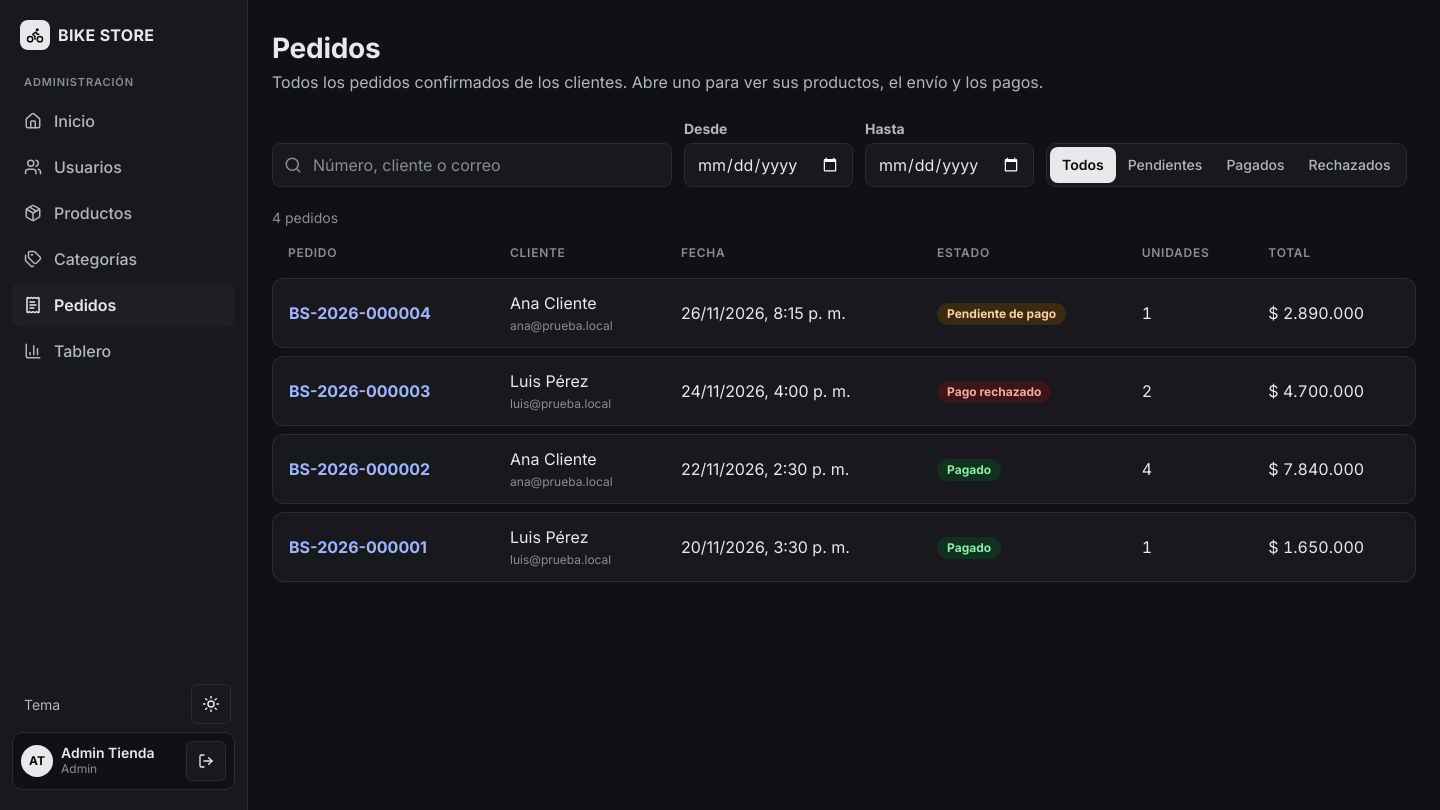
Listado › el filtro de estado pide la lista filtrada y lo guarda en la URL
The image size is (1440, 810).
Check: the table named "Listado de pedidos" is shown, box x1=272 y1=236 x2=1416 y2=590
What coordinates should you click on to do the following:
click the button "Pagados"
I would click on:
 (1256, 165)
Its box is x1=1214 y1=147 x2=1297 y2=183.
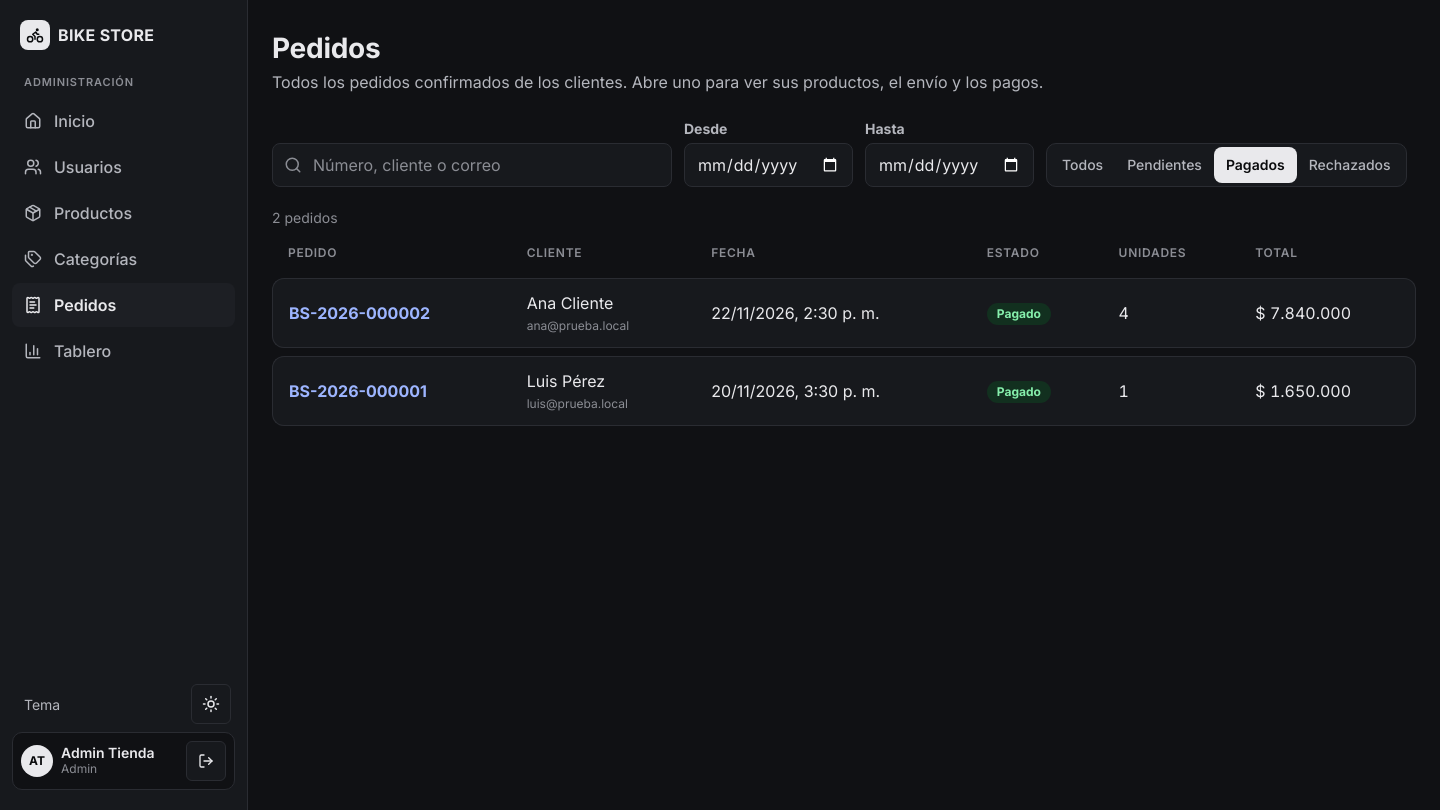
Check: the button "Pagados" is pressed, box x1=1214 y1=147 x2=1297 y2=183
